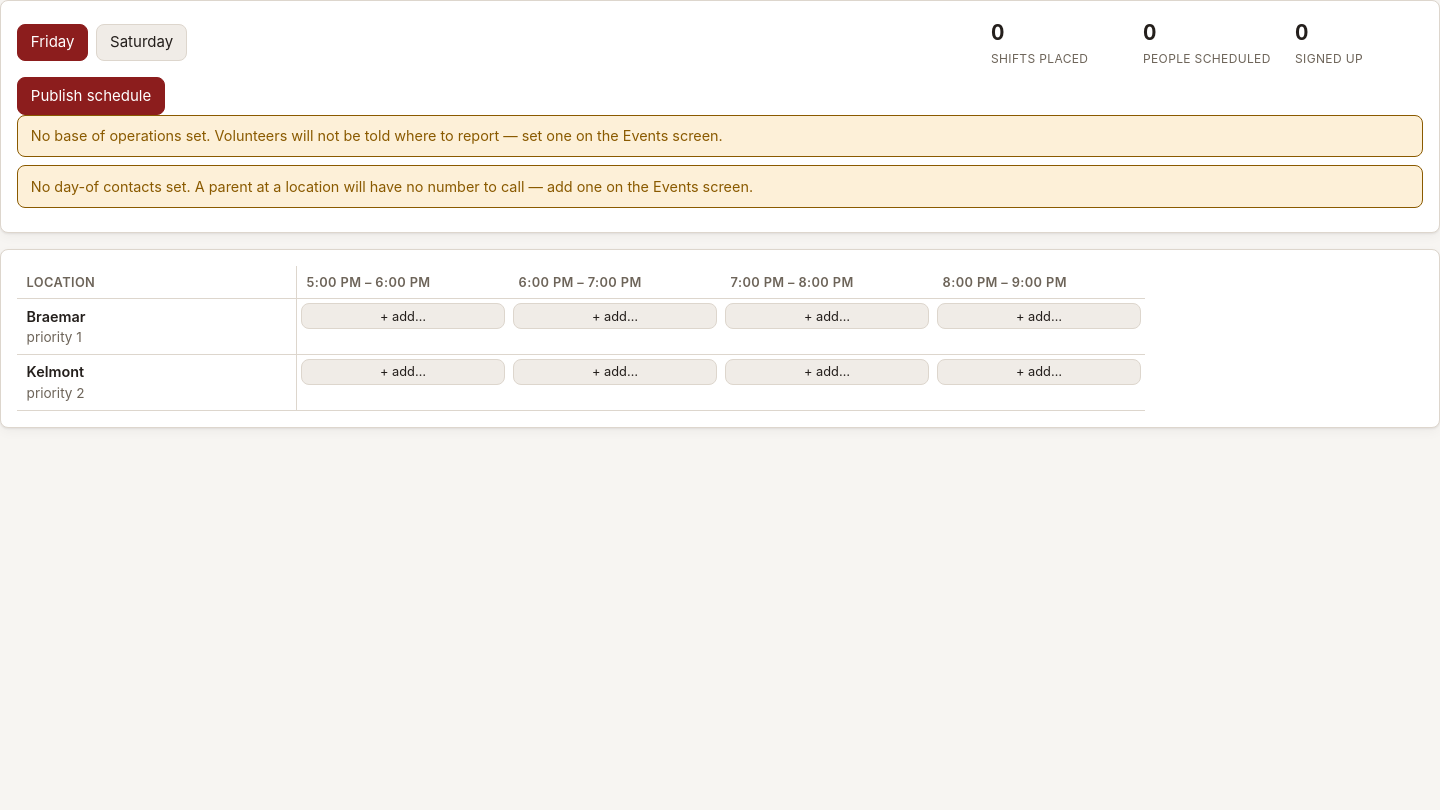
Test: when a write actually fails › says so instead of silently doing nothing
Click the 1st button with class "cell-add" at (403, 316), box x1=301 y1=303 x2=505 y2=329
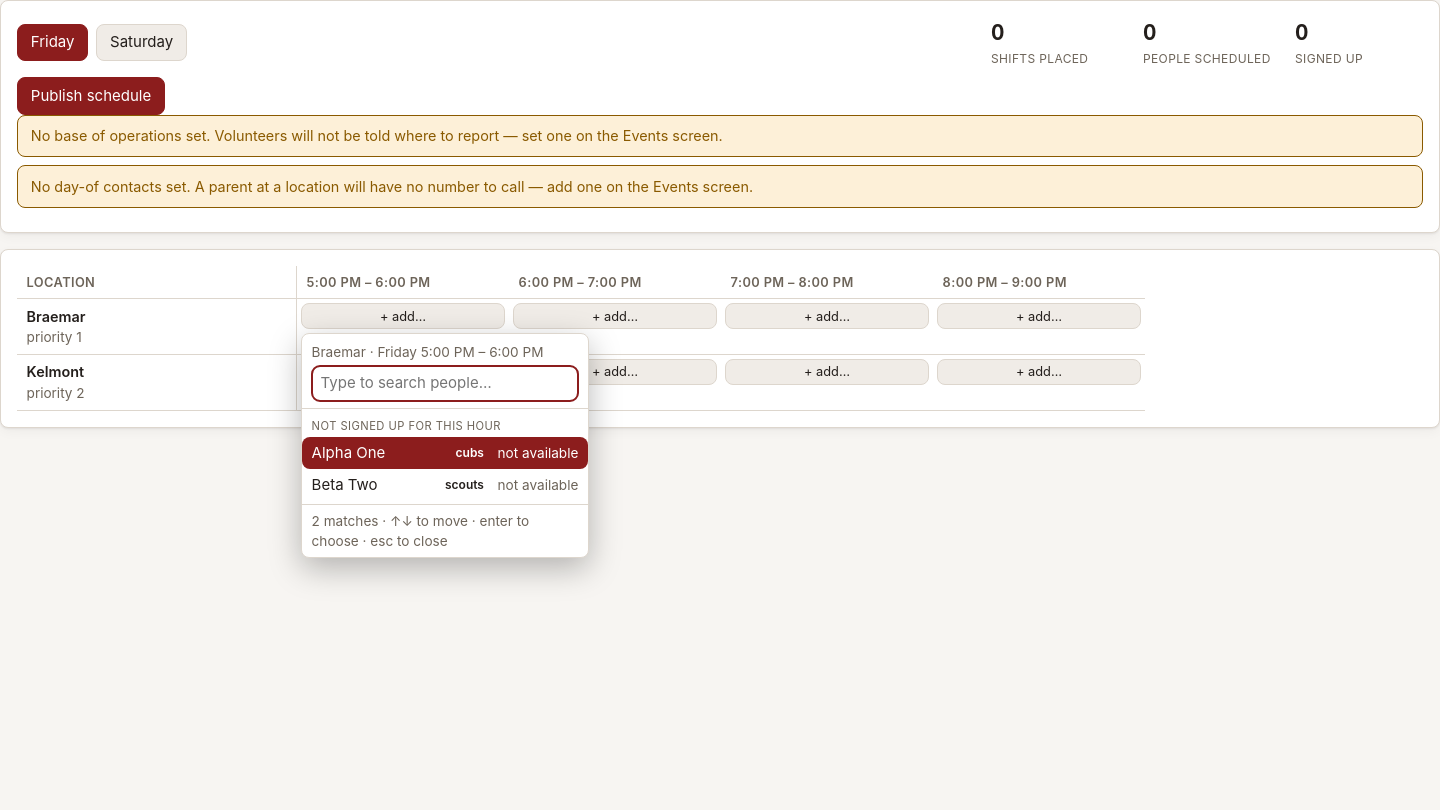
Click the option "Alpha One cubs not available" at (348, 452), box x1=302 y1=437 x2=588 y2=469
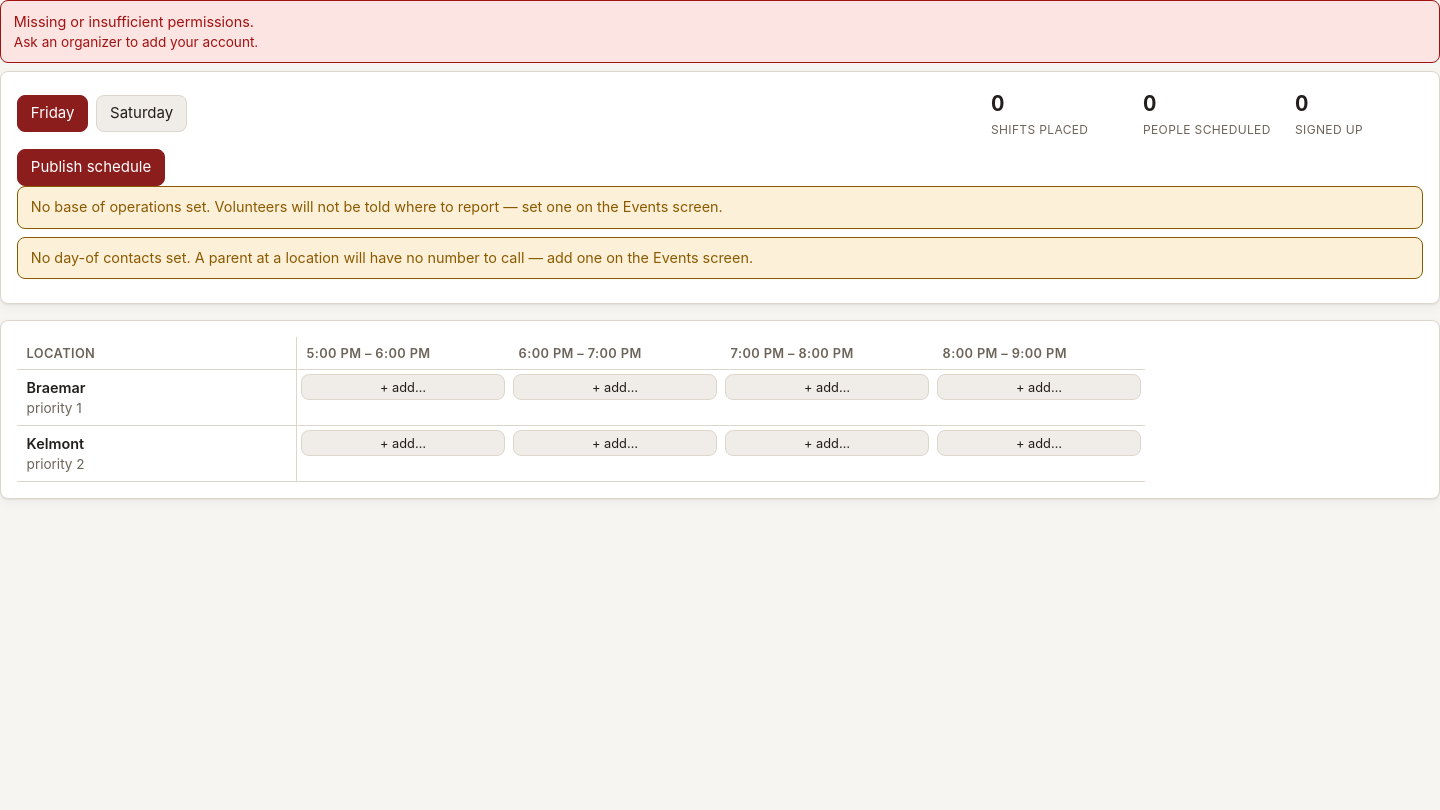
Expected: the 1st button with class "cell-add" is enabled, x1=301 y1=374 x2=505 y2=400
Now the text "insufficient permissions" is shown, box x1=14 y1=13 x2=254 y2=30
